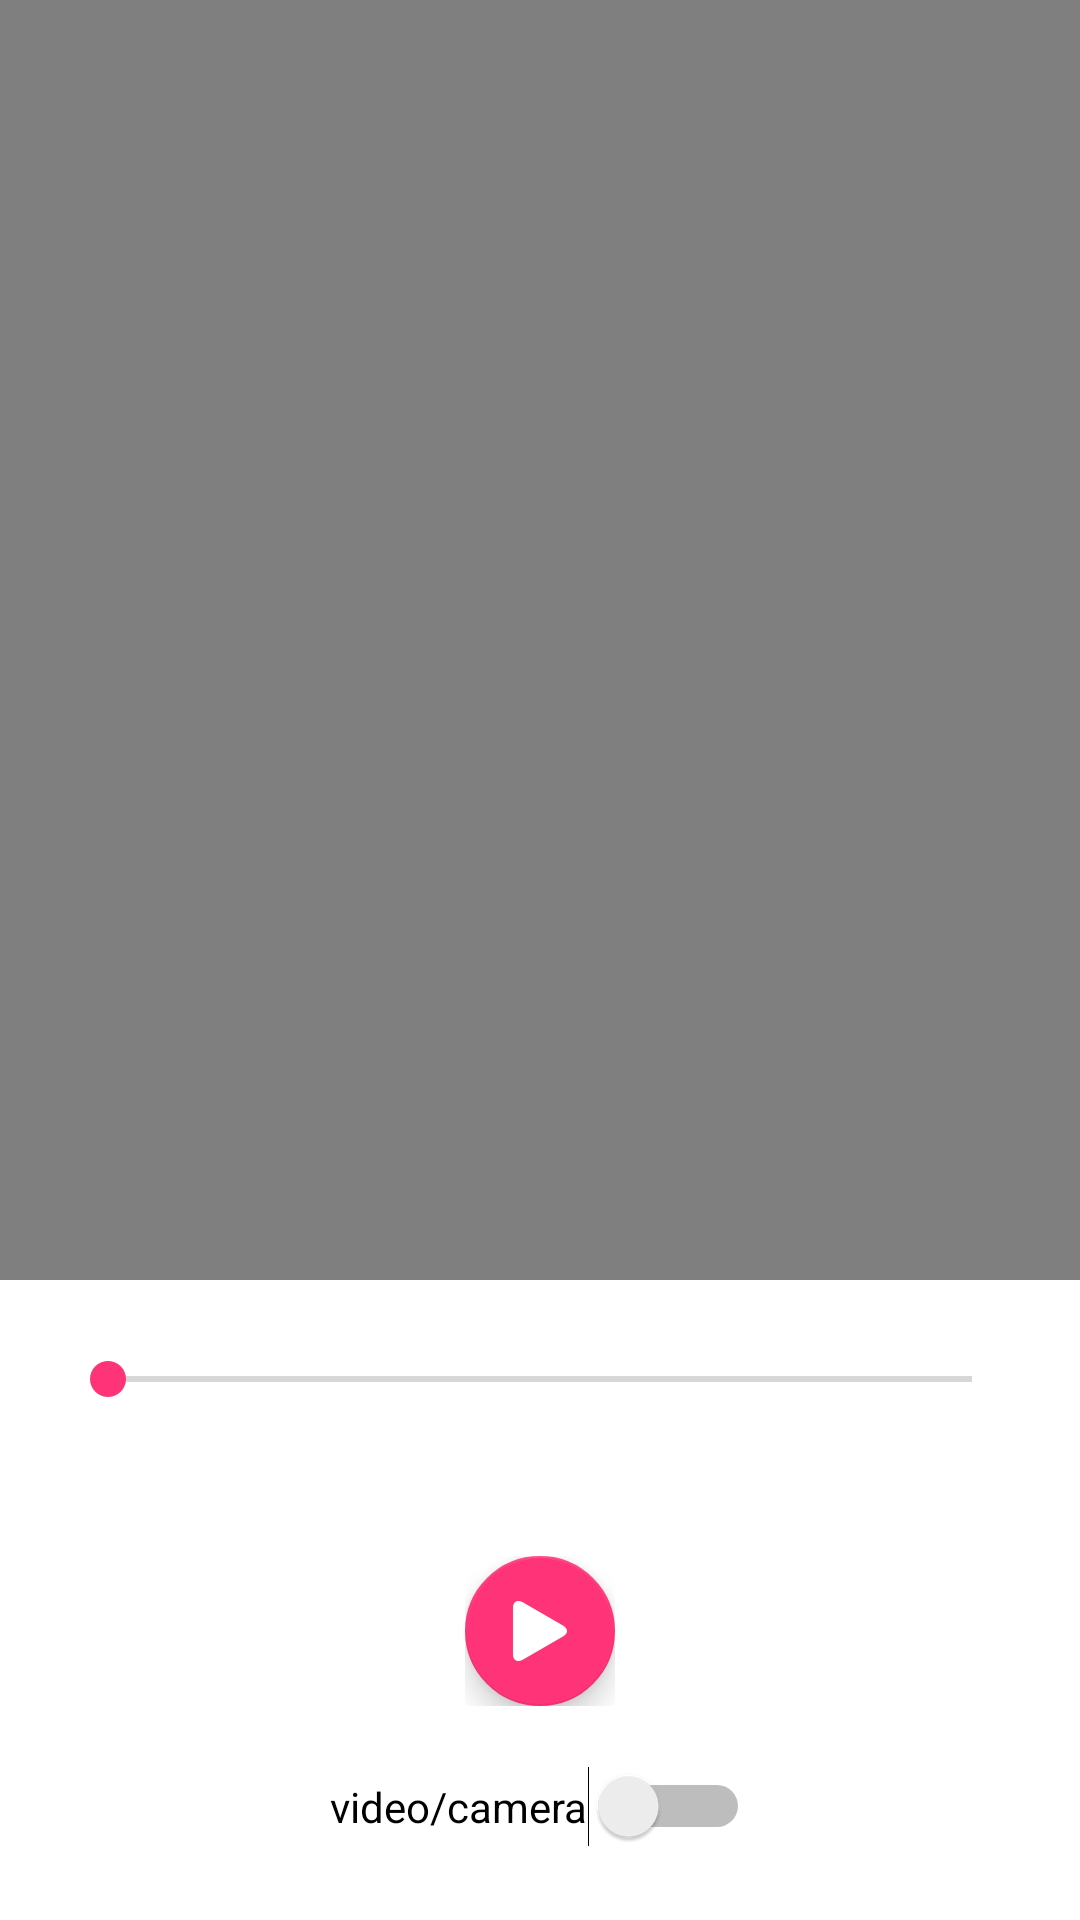

Icons on this 1080 × 1920 Android screen, each with the point to tap as (x=x, y=y):
play: (x=540, y=1631)
